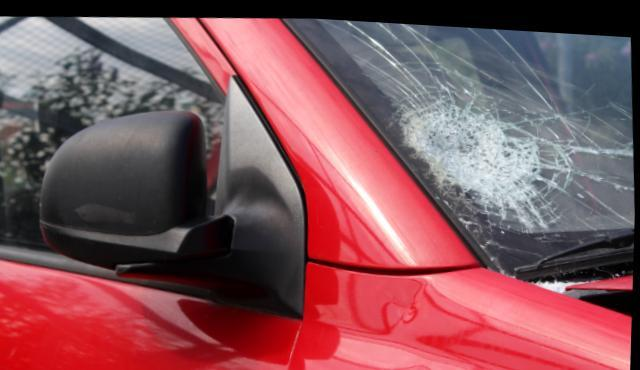dent: (400, 295, 419, 316)
glass shatter: (284, 15, 636, 265)
